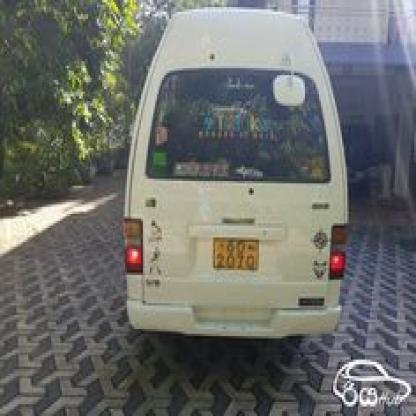number plate: (215, 233, 256, 272)
van back: (119, 0, 353, 348)
